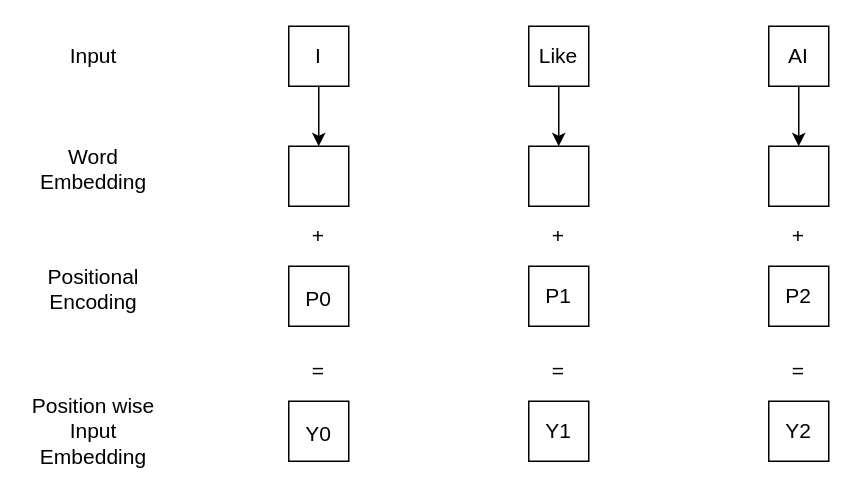
The diagram is 855 pixels wide and 503 high, and some of its shapes have lost their labels. The shapes that lost their labels are listed below. From the top down, each one's box as (x1, y1, x2, y2) in pixels, then its label:
(287, 145, 349, 206): E 0
(527, 145, 589, 206): E 1
(767, 145, 829, 206): E 2
